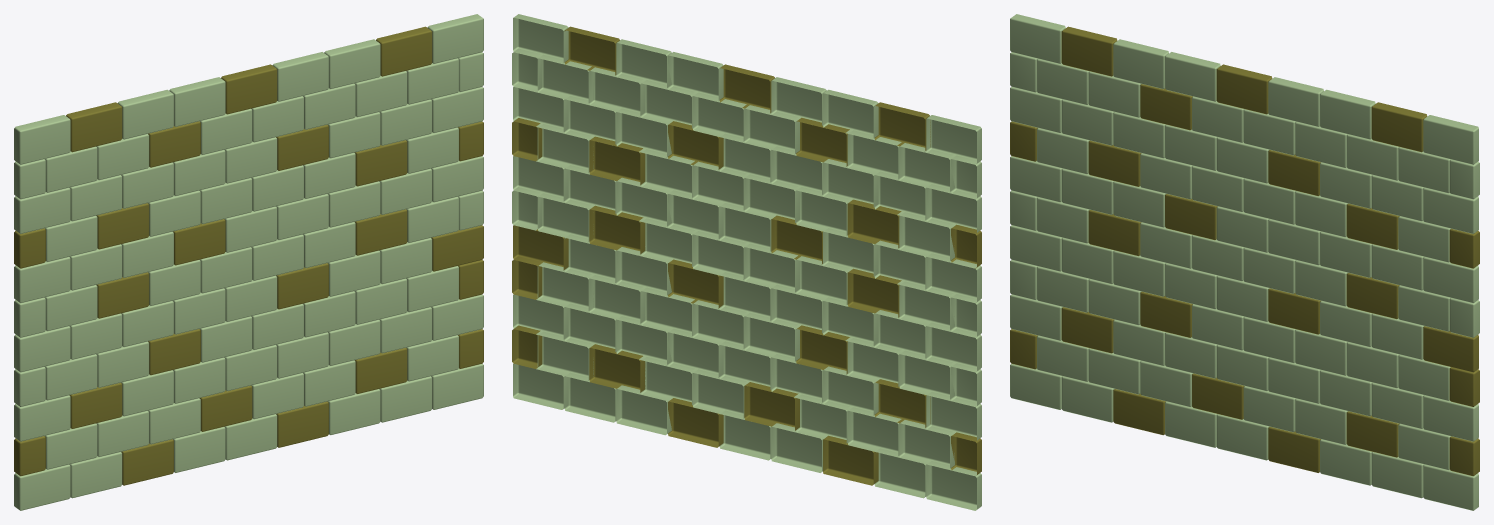
Rendered from Tile_5.glb.
The picture shows the model from 3 angles, left to right: view 1: azimuth 30°, elevation 25°; view 2: azimuth 150°, elevation 25°; view 3: azimuth 330°, elevation 25°; orthographic projection.
Visible parts, largest first — view 1: Tile_5; view 2: Tile_5; view 3: Tile_5.
Part boxes in pixels (x1=…): Tile_5: x1=14, y1=14, x2=483, y2=510; Tile_5: x1=512, y1=14, x2=981, y2=510; Tile_5: x1=1010, y1=14, x2=1479, y2=510.
Size of the model in its own units: 4.6 by 3.6 by 0.1.
1 material, 1 textured.
